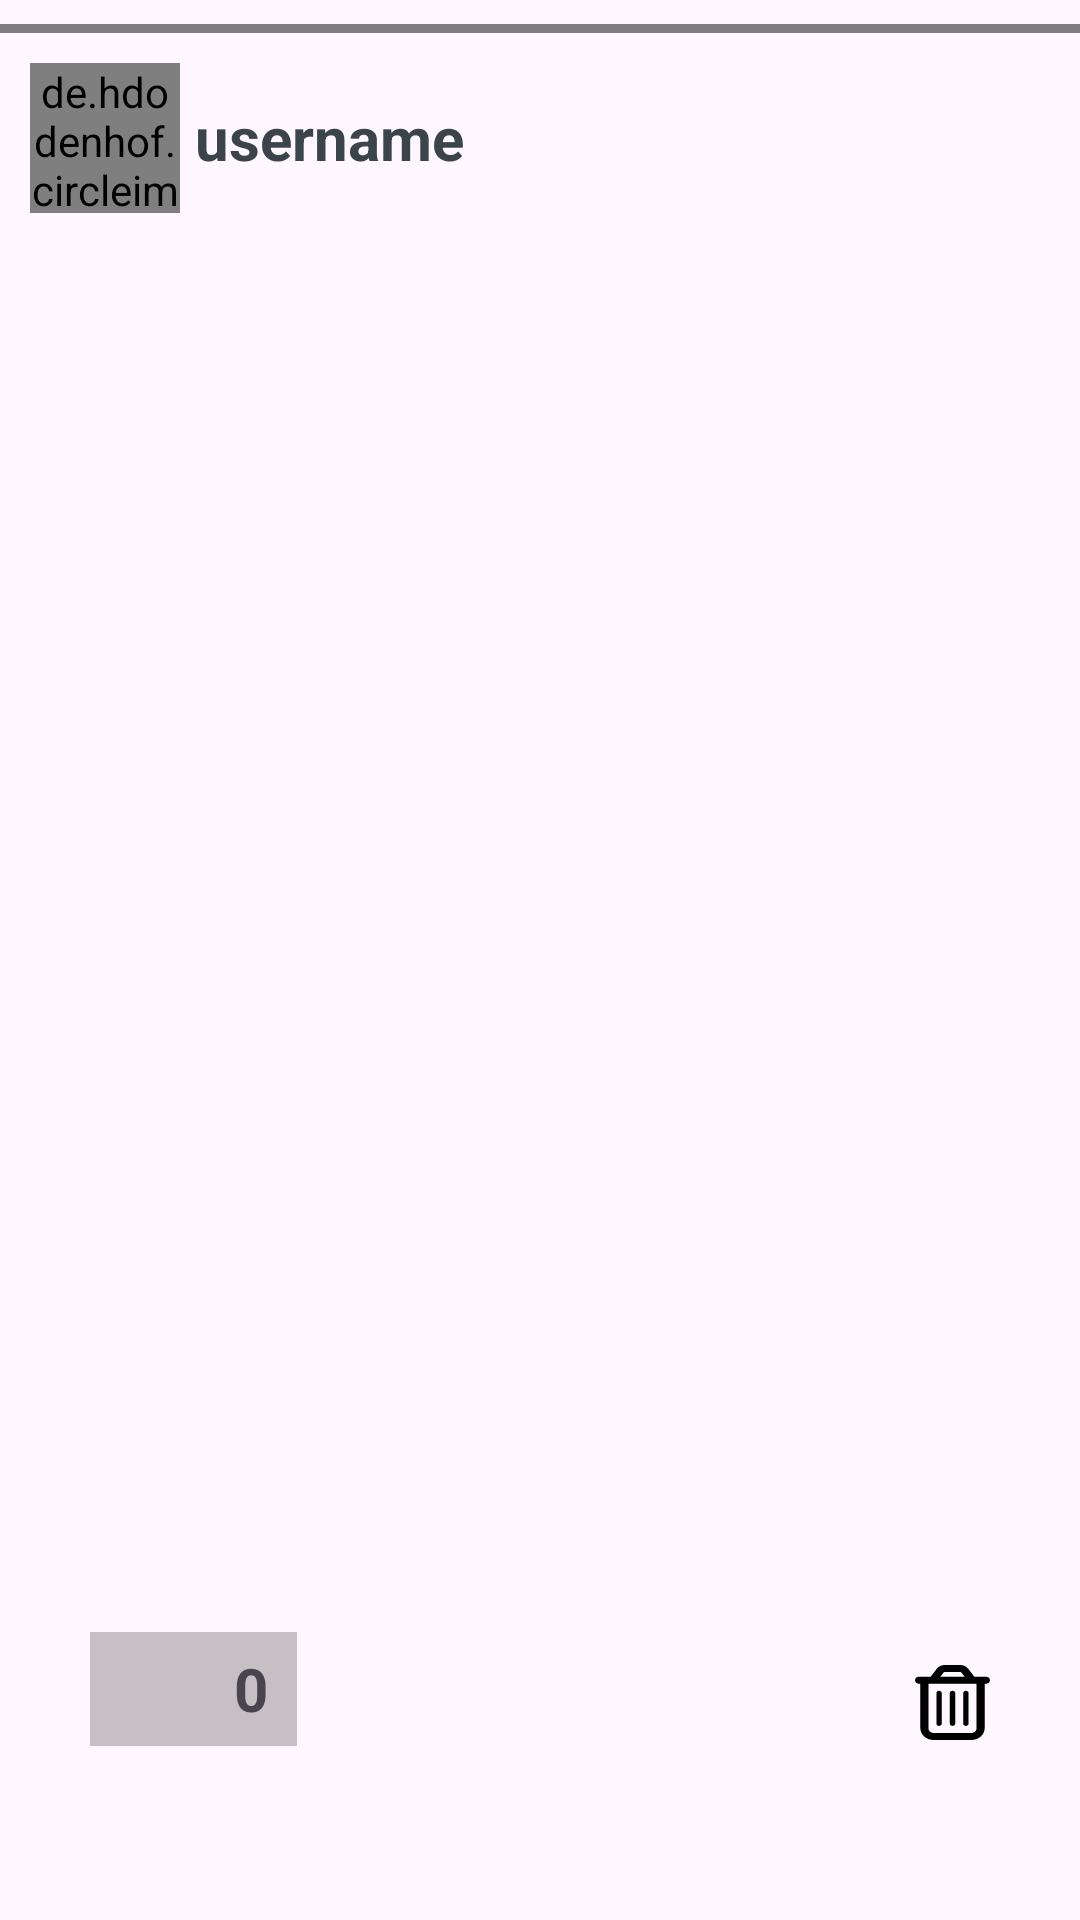

Screen size 1080×1920. Icon name, then its center in pixels as (x=x, y=y):
trash can: (x=952, y=1702)
